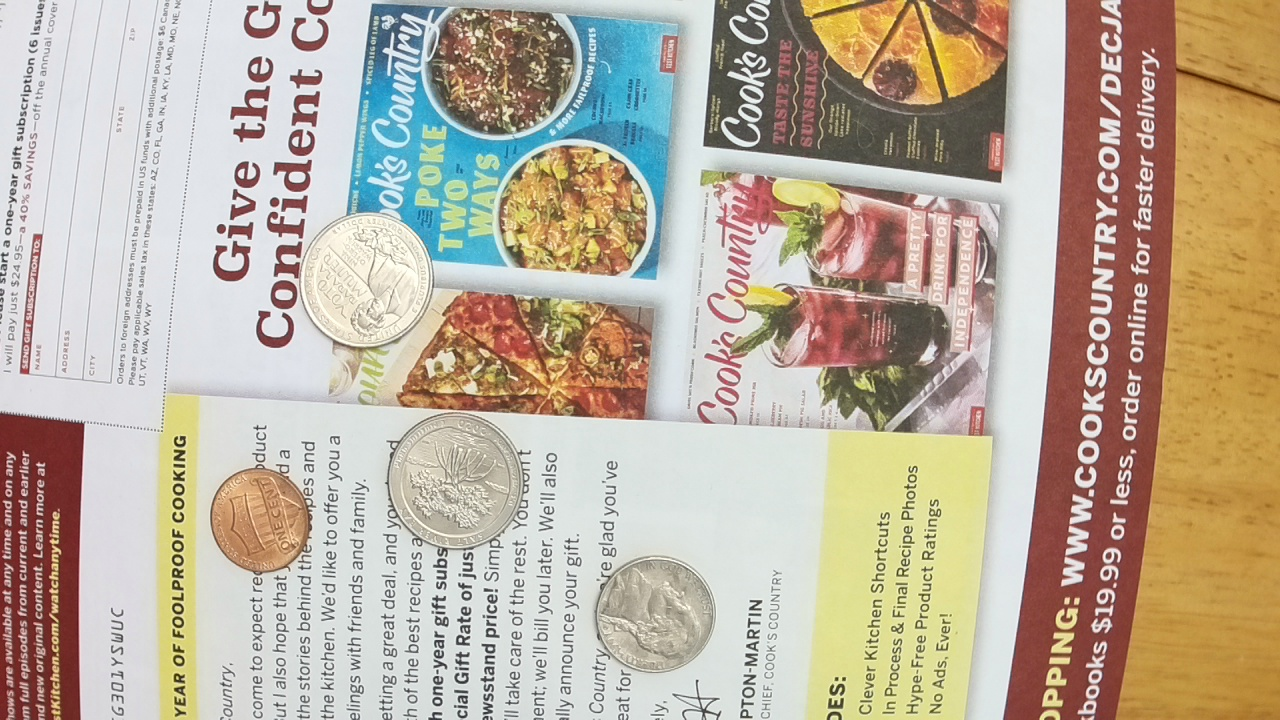nickel: (597, 550, 715, 676)
penny: (208, 464, 310, 574)
quarter: (296, 208, 436, 352), (386, 410, 524, 552)
